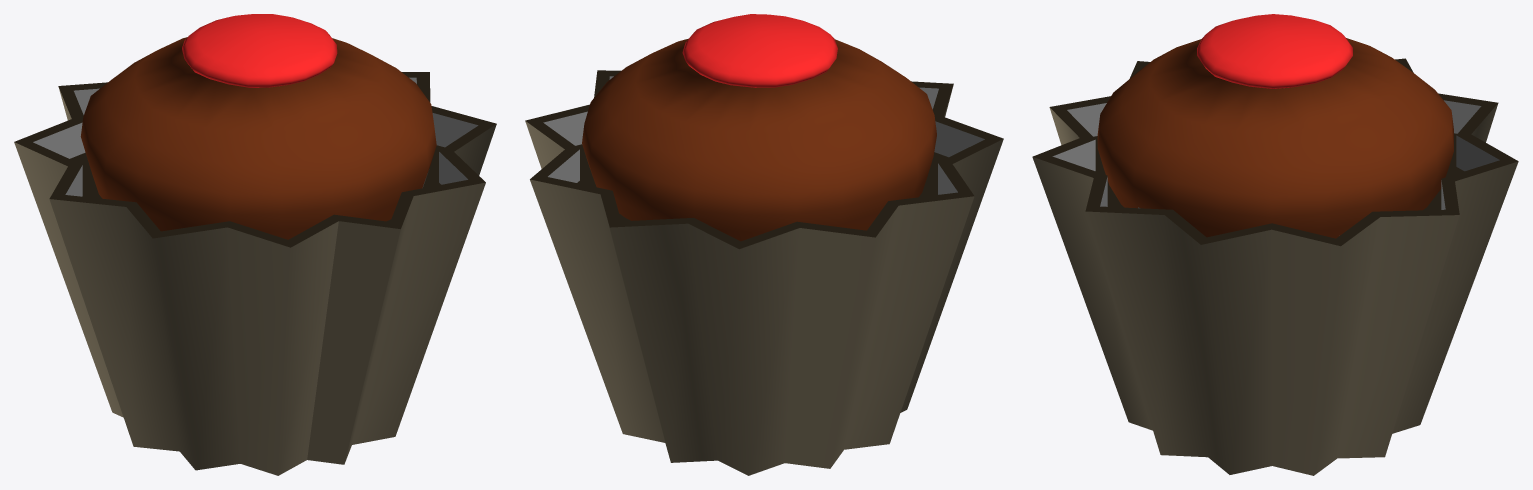
The model's file is cub cake RED.FBX.
3 views of the same model, side by side, from view 1: azimuth 30°, elevation 25°; view 2: azimuth 150°, elevation 25°; view 3: azimuth 270°, elevation 25° (orthographic).
Visible parts, largest first — view 1: RED CUBCAKE; view 2: RED CUBCAKE; view 3: RED CUBCAKE.
Part boxes in pixels (box(x1,y1,x2,y2)): RED CUBCAKE: box(14, 14, 496, 475); RED CUBCAKE: box(525, 14, 1003, 475); RED CUBCAKE: box(1032, 14, 1518, 475).
Bounding box in the file's own units: 64.28 × 56.63 × 64.95.
